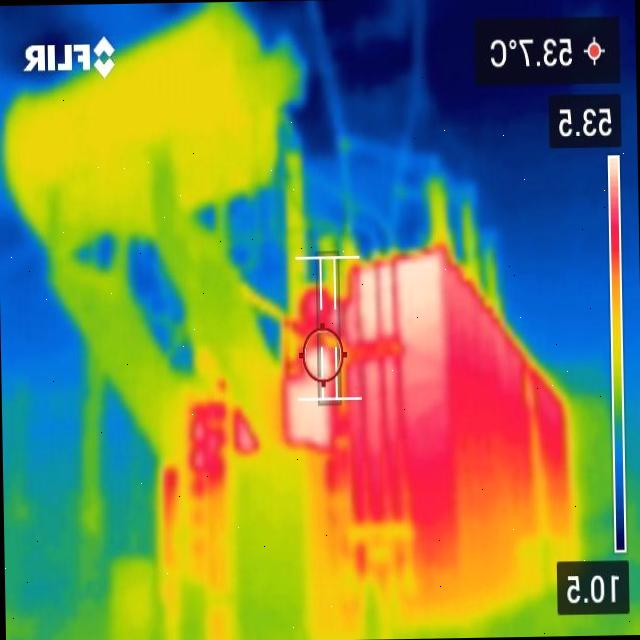full_wire_yellow: (214, 199, 285, 321)
loose_joint_yellow: (285, 150, 307, 314), (426, 176, 454, 255), (460, 199, 481, 285), (481, 247, 501, 310)
